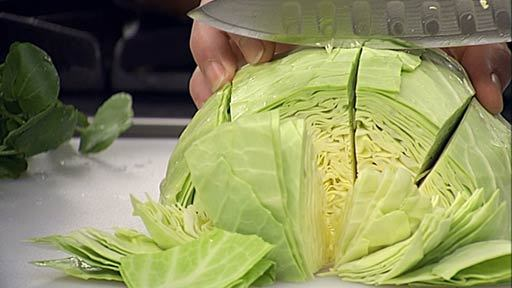cabbage: (53, 59, 511, 287)
